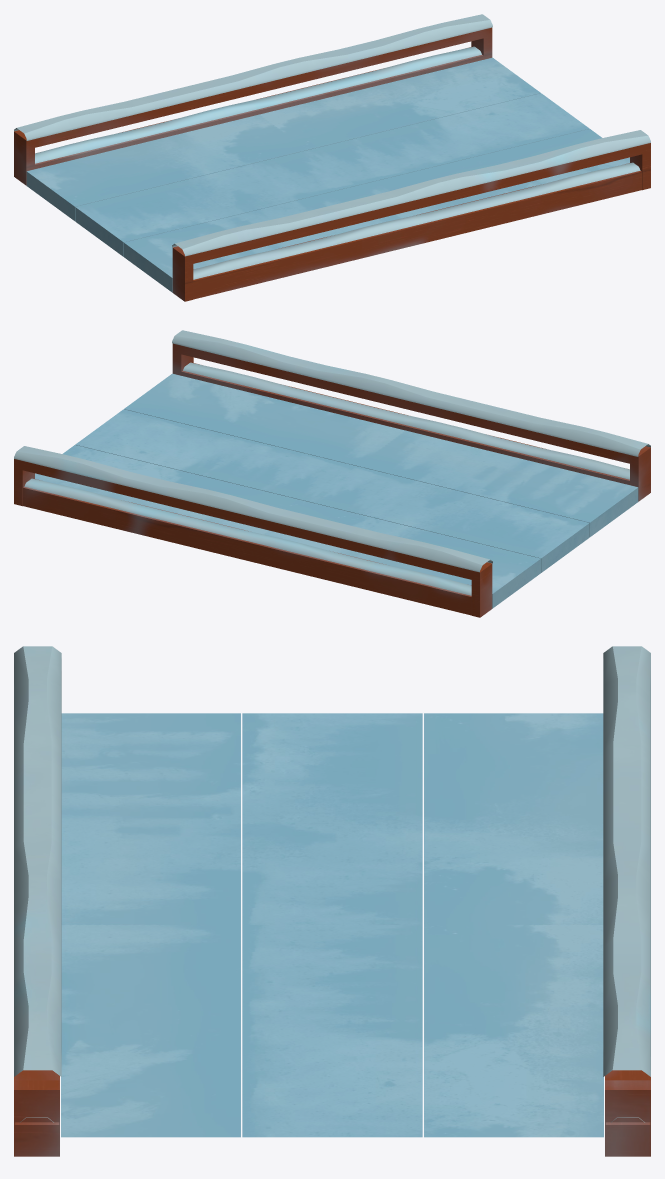
File: platform_1.fbx
The picture shows the model from 3 angles, top to bottom: view 1: azimuth 30°, elevation 25°; view 2: azimuth 150°, elevation 25°; view 3: azimuth 270°, elevation 25°; orthographic projection. The views are drawn at different scales.
Visible parts, largest first — view 1: Platform1; view 2: Platform1; view 3: Platform1.
Boxes of the visible parts, left/top/right/bottom form: Platform1: left=14, top=14, right=650, bottom=301; Platform1: left=14, top=330, right=650, bottom=617; Platform1: left=14, top=646, right=650, bottom=1156.
Size of the model in its own units: 1000 by 109 by 635.
